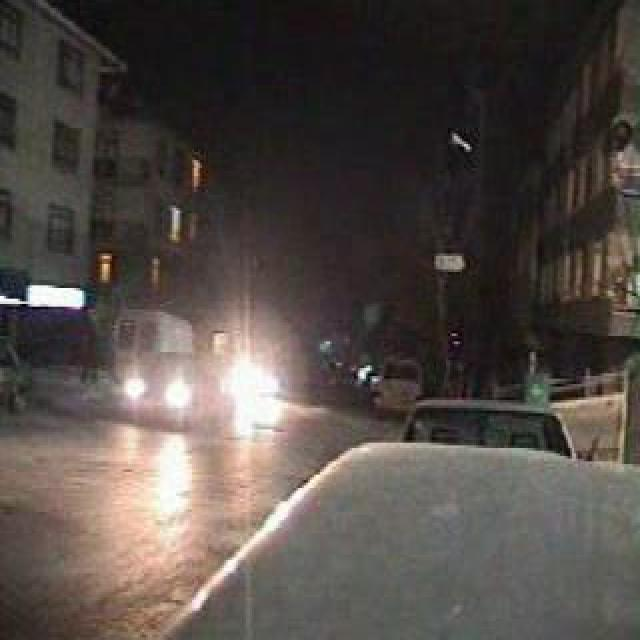other: (109, 344, 298, 441)
